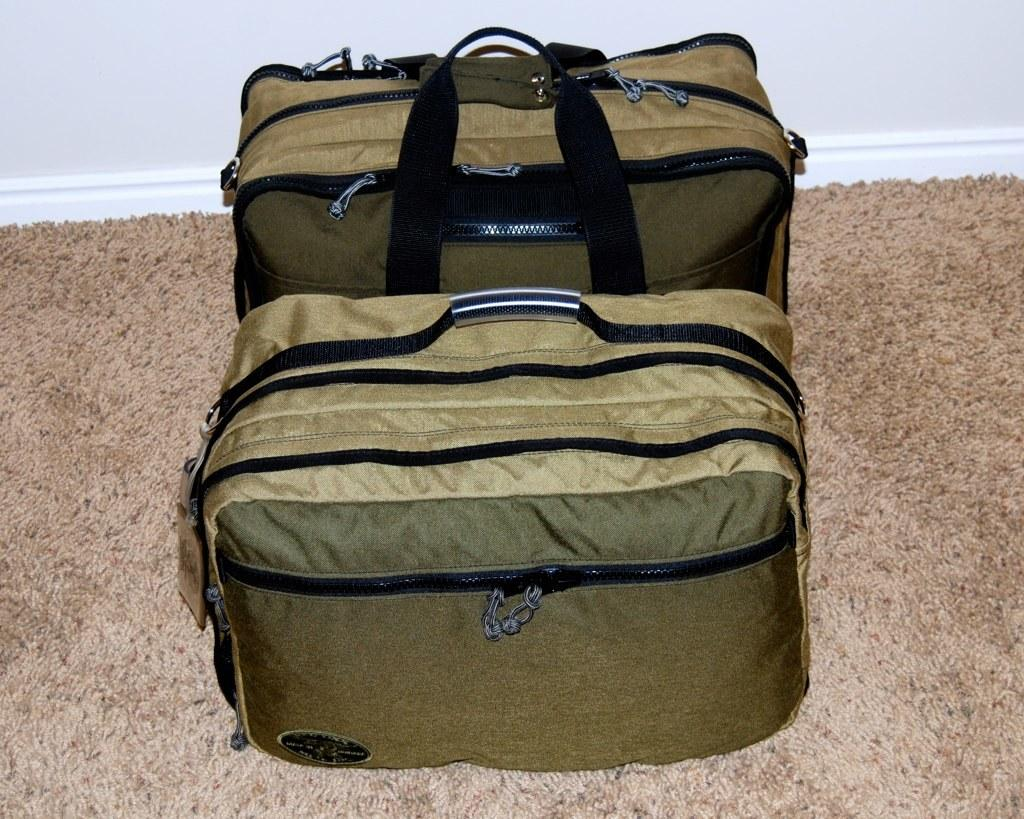Luggage-and-bags: (164, 284, 817, 770), (216, 19, 813, 325)
